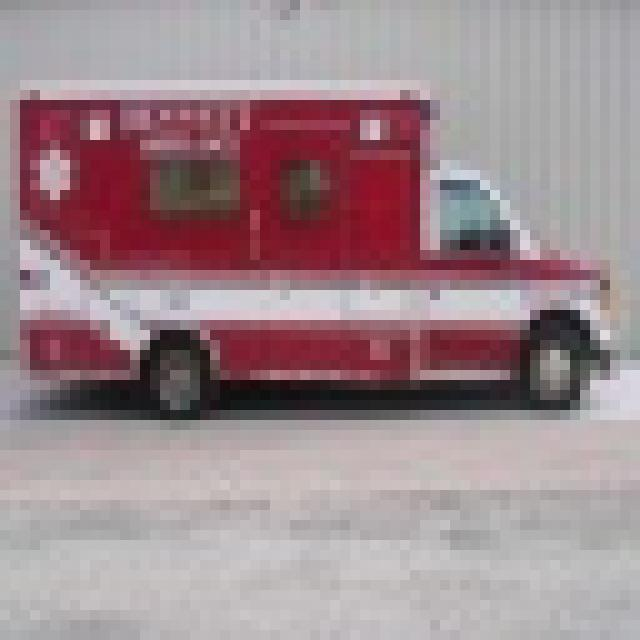Ambulance: (10, 70, 610, 410)
